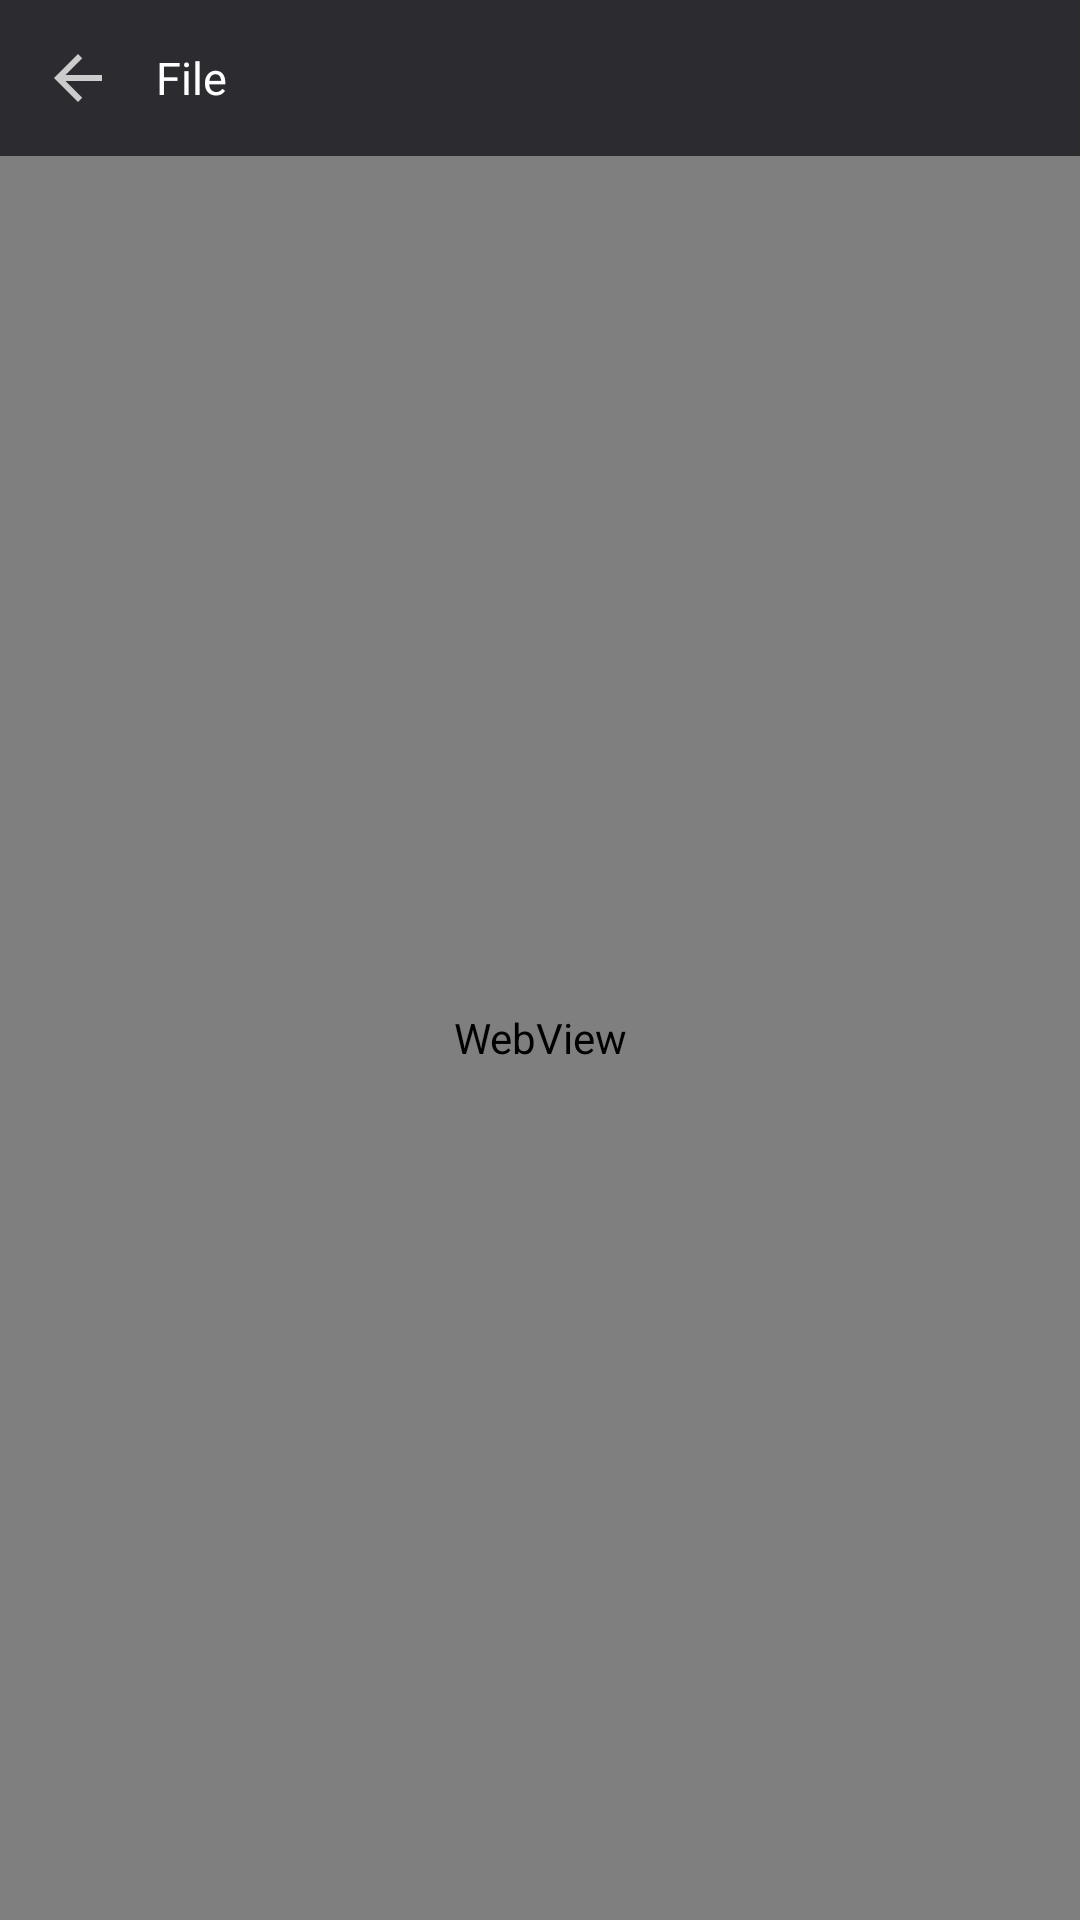

Where to tap for icons on this 1080×1920 app screen, as (x,y):
Back: (78,78)
